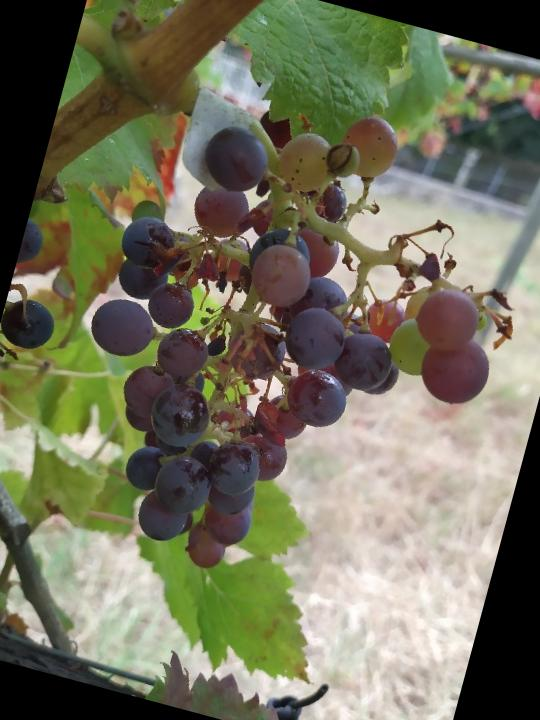grape: (29, 52, 540, 630)
